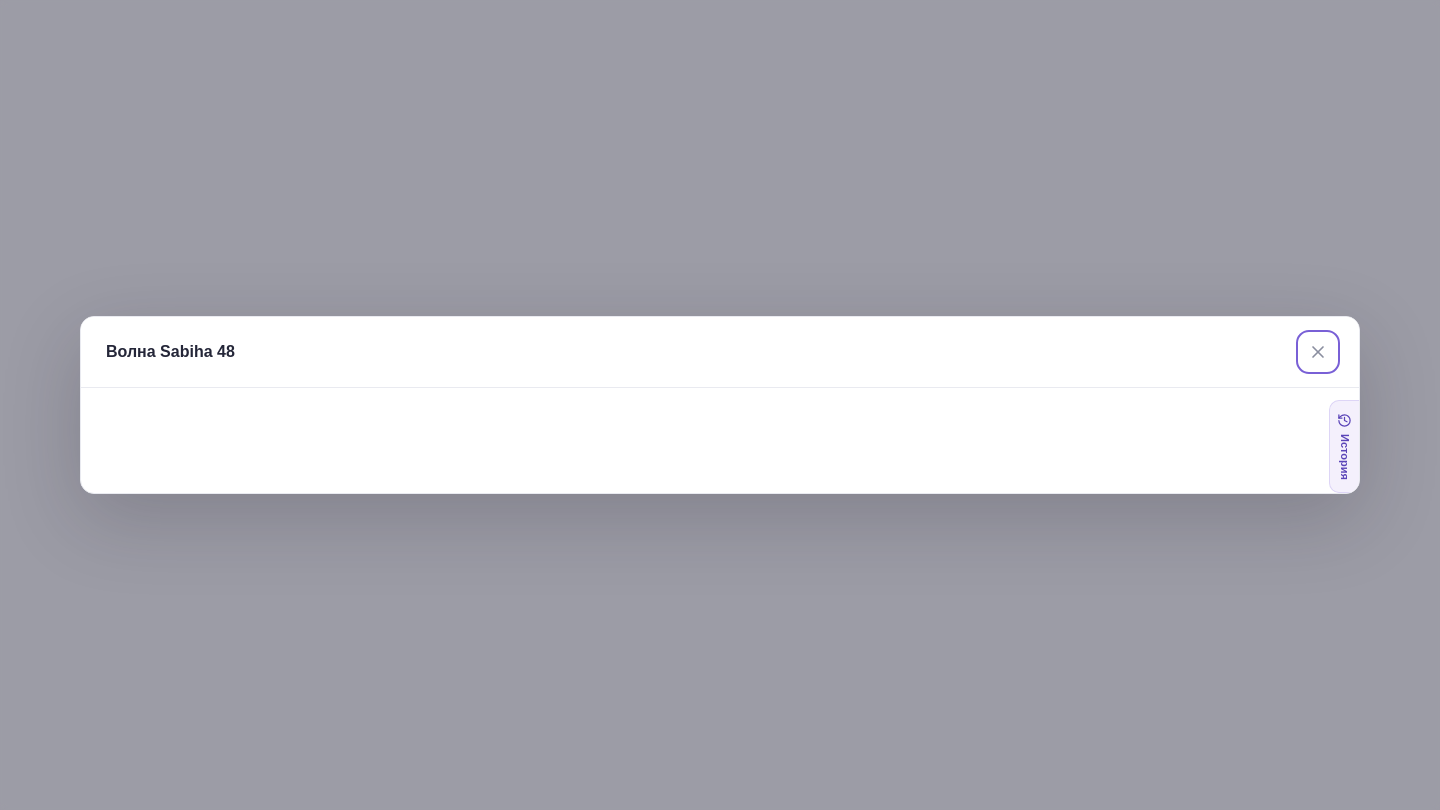
Test: opens the side history with its own accessible title and loads the rest without replacing previous changes
Later steps or results of the test are not shown.
Click the button with aria-label "История изменений волны". click: (1344, 446)
box: x1=1329 y1=400 x2=1359 y2=493
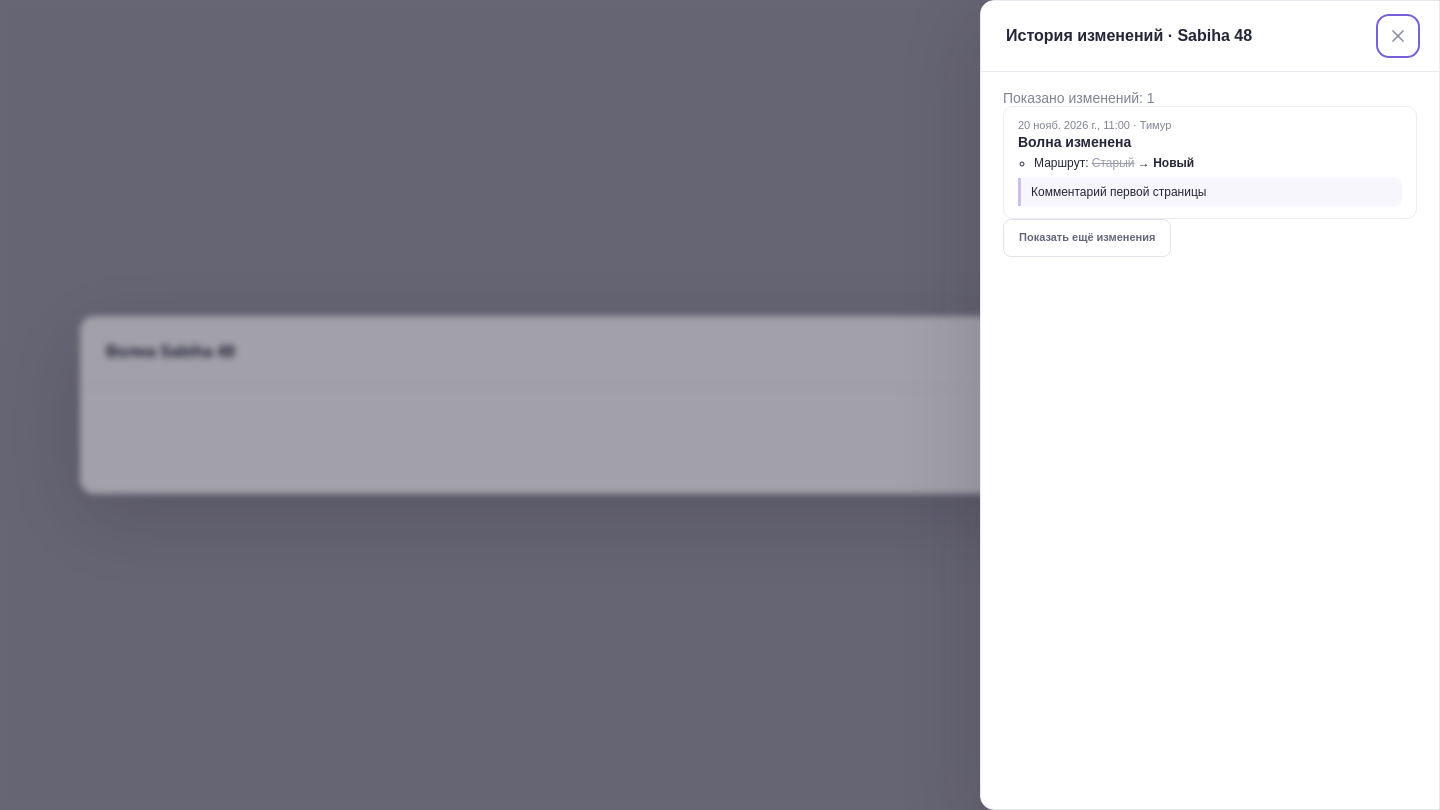
Check: the dialog "Волна Sabiha 48" is shown, box x1=80 y1=316 x2=1360 y2=494
Check: the text "Комментарий первой страницы" is shown, box x1=1018 y1=178 x2=1402 y2=206
Click the button "Показать ещё изменения". click: (1087, 238)
box: x1=1003 y1=219 x2=1171 y2=257
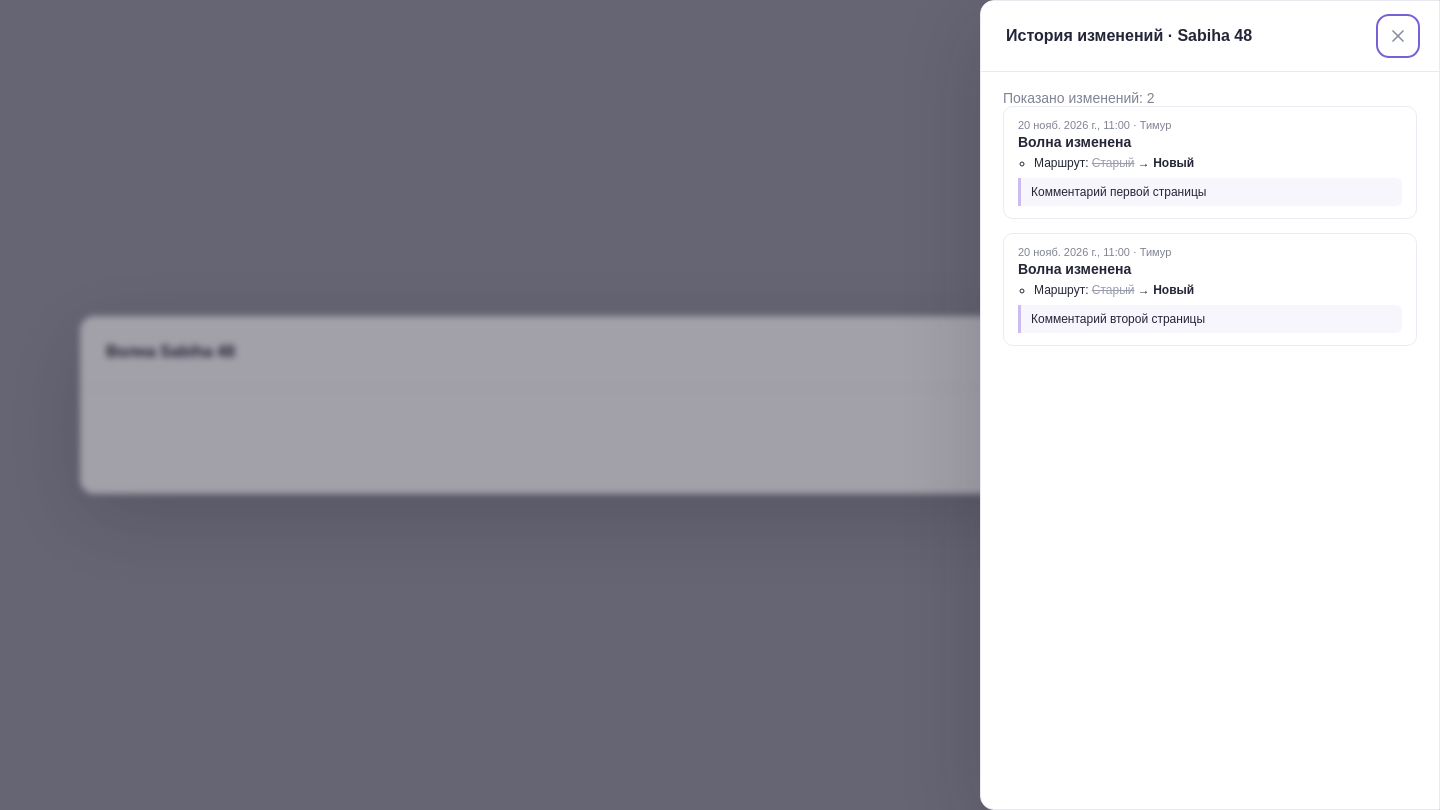
Check: the text "Комментарий первой страницы" is shown, box x1=1018 y1=178 x2=1402 y2=206
Check: the text "Комментарий второй страницы" is shown, box x1=1018 y1=305 x2=1402 y2=333
Check: the text "Показано изменений: 2" is shown, box x1=1003 y1=90 x2=1155 y2=106
Click the button named "Закрыть". click: (1398, 36)
box: x1=1382 y1=20 x2=1414 y2=52
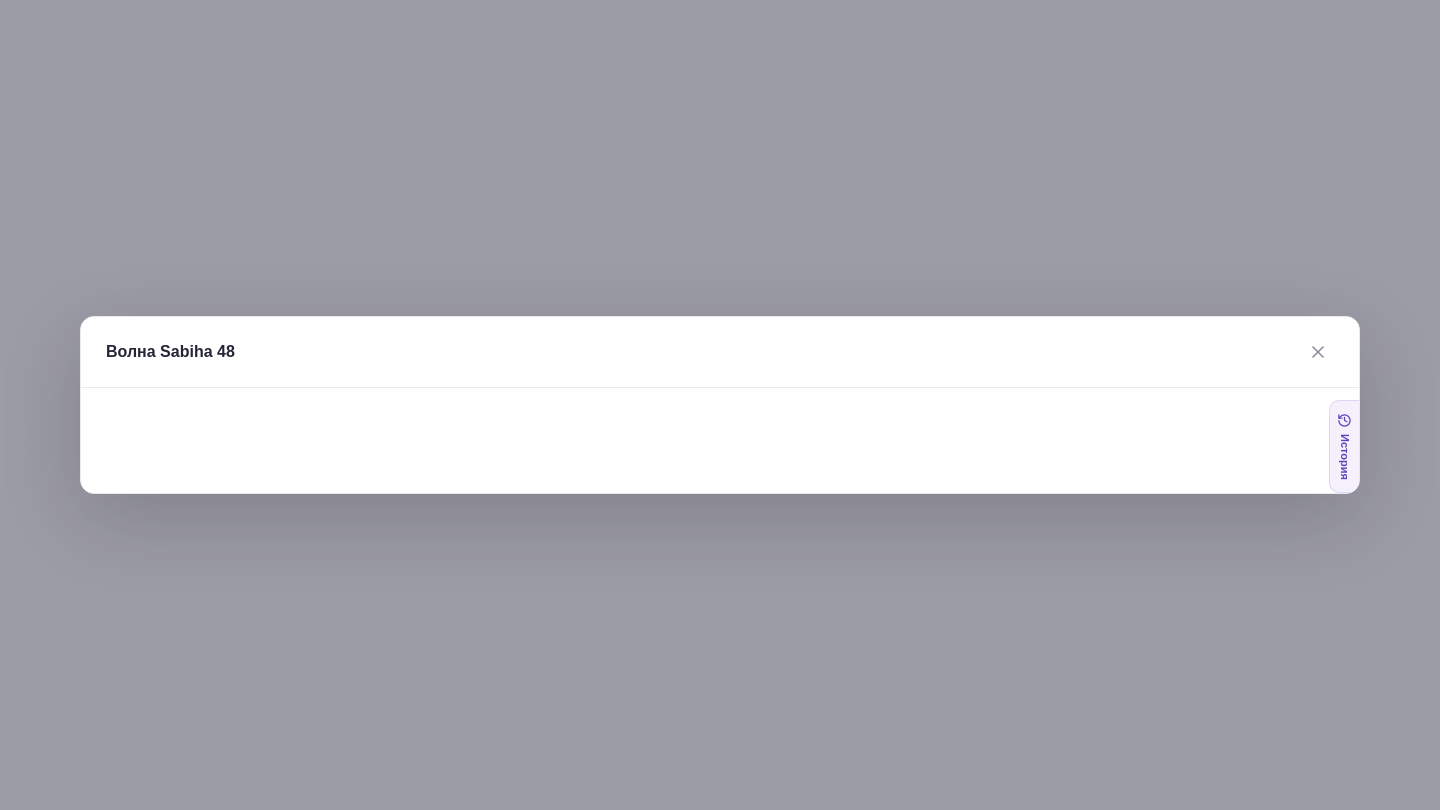
Check: the dialog "Волна Sabiha 48" is shown, box x1=80 y1=316 x2=1360 y2=494
Check: the heading "История изменений · Sabiha 48" is gone
